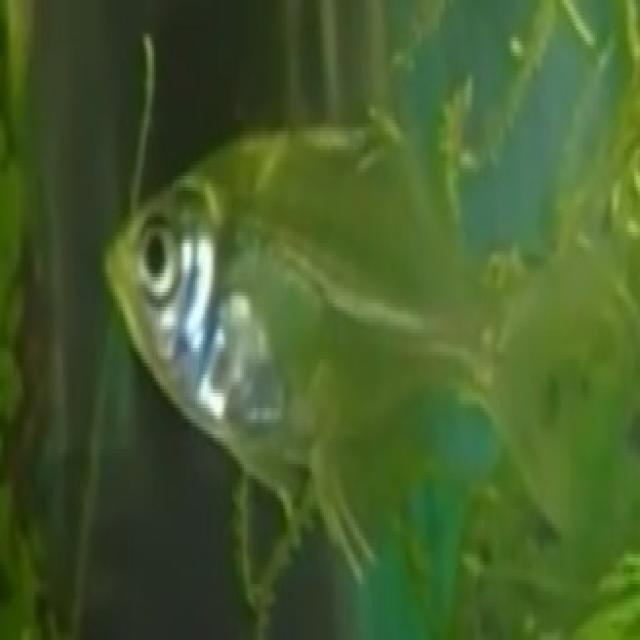Glass-Perchlet: (82, 48, 604, 558)
